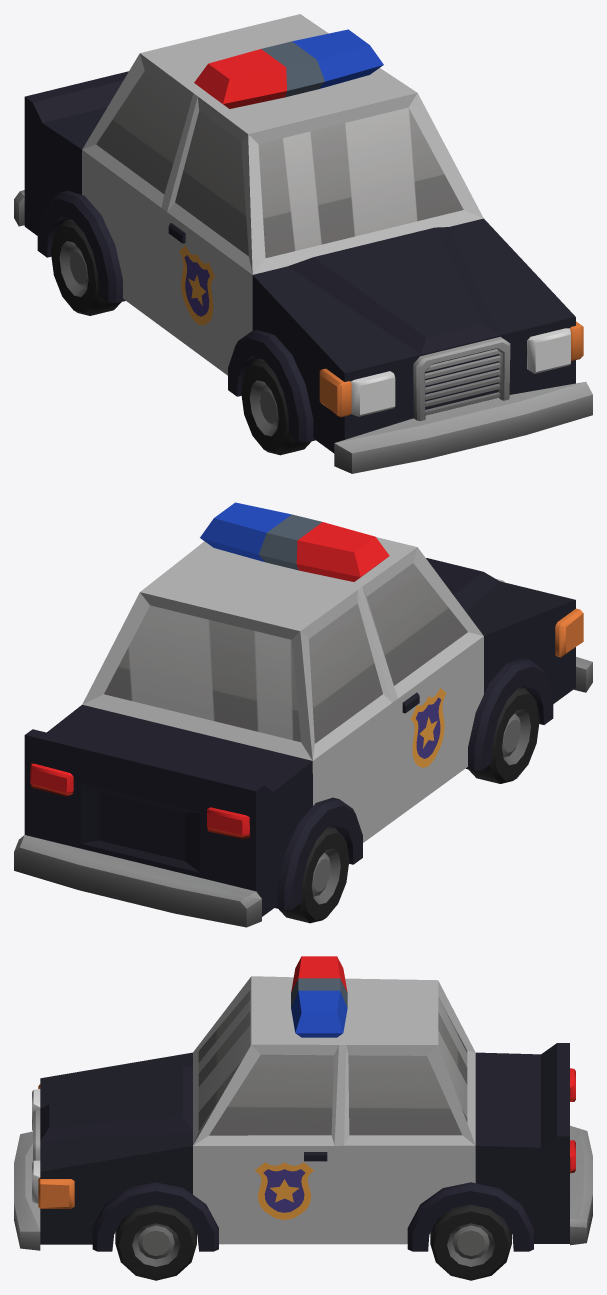
The model's file is PoliceCar.glb.
3 renders of one model, top to bottom at view 1: azimuth 30°, elevation 25°; view 2: azimuth 150°, elevation 25°; view 3: azimuth 270°, elevation 25°, orthographic. The views are drawn at different scales.
Visible parts, largest first — view 1: PoliceCar, W_fR, W_bR; view 2: PoliceCar, W_bR, W_fR; view 3: PoliceCar, W_bL, W_fL.
Boxes of the visible parts, x1,y1,x2,y2 form: PoliceCar: (14,14,592,473); W_fR: (241,358,311,455); W_bR: (51,219,121,315); PoliceCar: (14,502,592,927); W_bR: (279,826,349,923); W_fR: (468,687,539,783); PoliceCar: (14,956,592,1251); W_bL: (430,1204,511,1280); W_fL: (115,1204,196,1280).
Size of the model in its own units: 1.03 by 1.14 by 2.44.
Materials: 5 (5 with a texture image).
